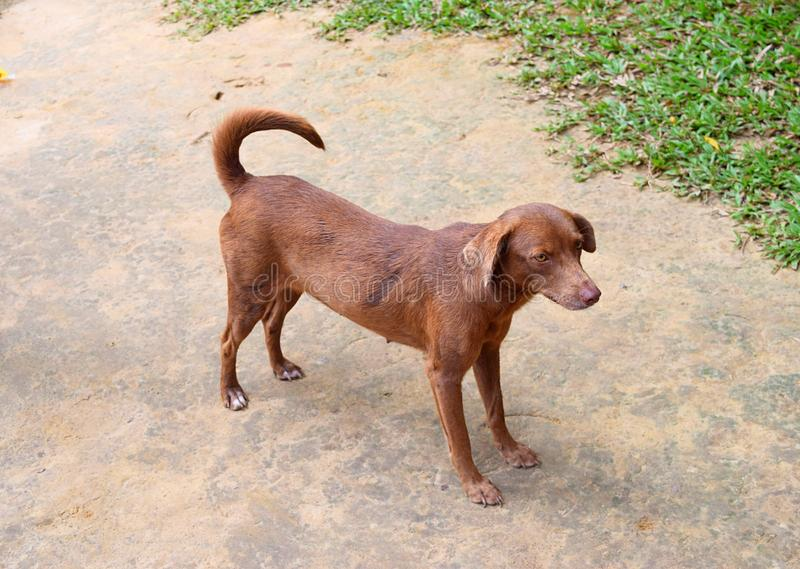nontarget: (170, 81, 606, 529)
